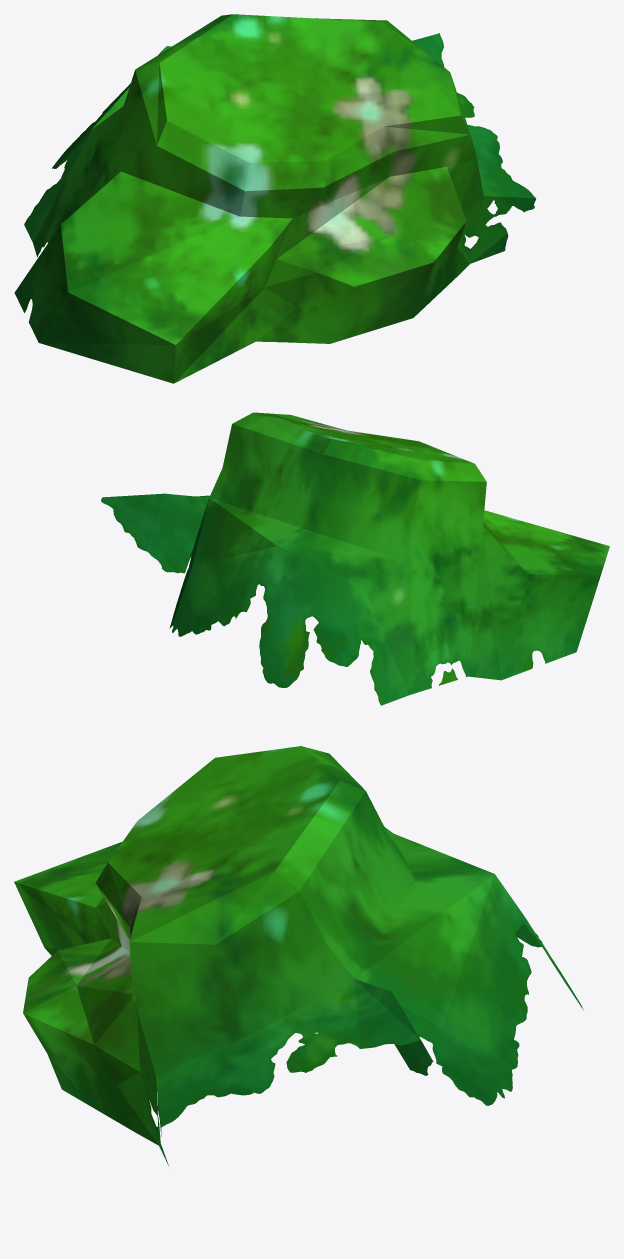
The model's file is difuchangjing_shitou15.FBX.
3 views of the same model, one above another, from view 1: azimuth 30°, elevation 25°; view 2: azimuth 150°, elevation 25°; view 3: azimuth 270°, elevation 25° (orthographic). The views are drawn at different scales.
Visible parts, largest first — view 1: difuchangjing_shitou015; view 2: difuchangjing_shitou015; view 3: difuchangjing_shitou015.
Boxes of the visible parts, bbox=[...] form: difuchangjing_shitou015: bbox=[14, 14, 536, 383]; difuchangjing_shitou015: bbox=[101, 412, 609, 705]; difuchangjing_shitou015: bbox=[14, 746, 583, 1165].
Size of the model in its own units: 342 by 132 by 260.
